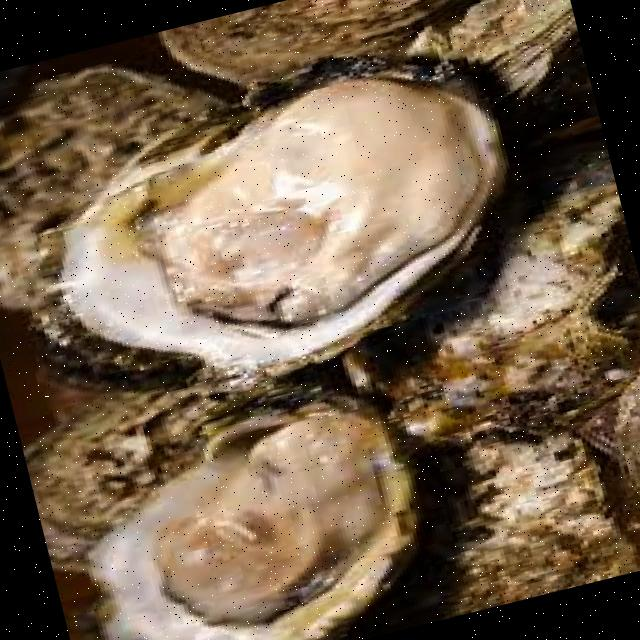Oyster-Closed: (339, 140, 639, 422), (24, 361, 376, 559), (356, 408, 639, 634), (0, 35, 255, 232), (242, 1, 578, 108), (165, 0, 449, 88)
Oyster-Open: (62, 80, 506, 373), (91, 404, 414, 639)
